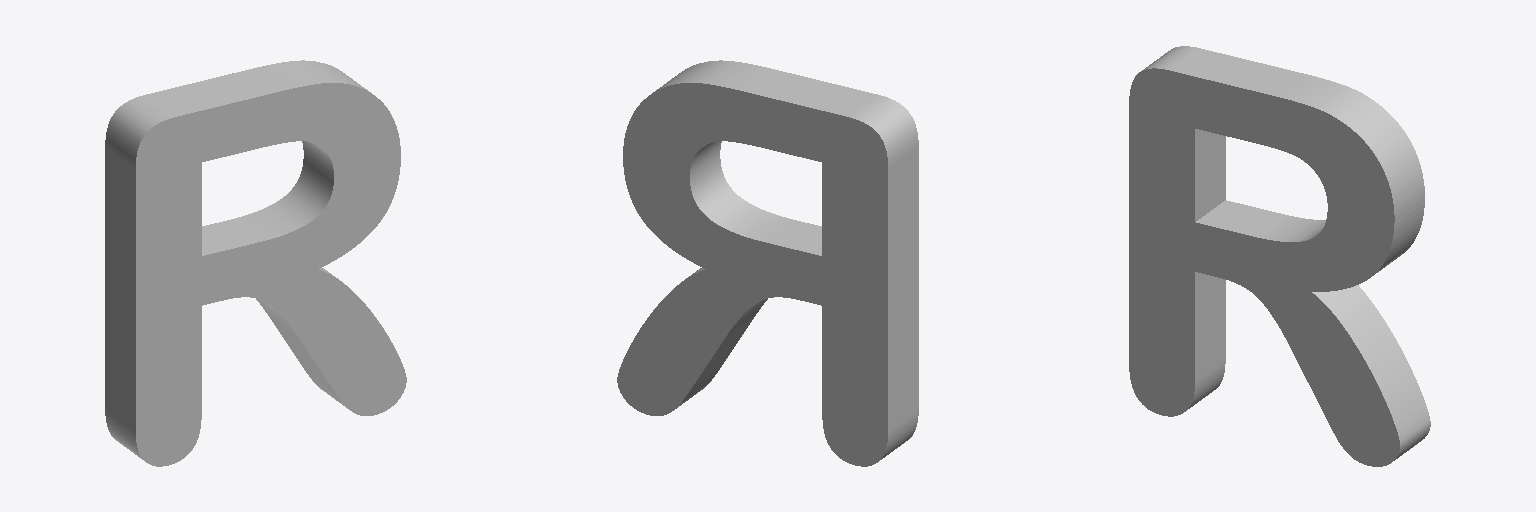
The model's file is modelR.obj.
3 renders of one model, left to right at view 1: azimuth 30°, elevation 25°; view 2: azimuth 150°, elevation 25°; view 3: azimuth 330°, elevation 25°, orthographic.
Bounding box in the file's own units: 5.15 × 6.29 × 1.